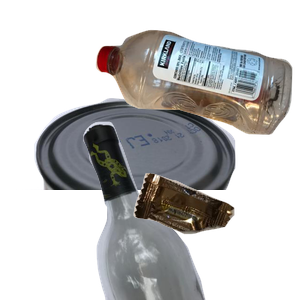glass: (81, 120, 300, 300)
metal: (16, 96, 244, 276)
plastic: (93, 27, 300, 154)
trash: (131, 171, 300, 300)
